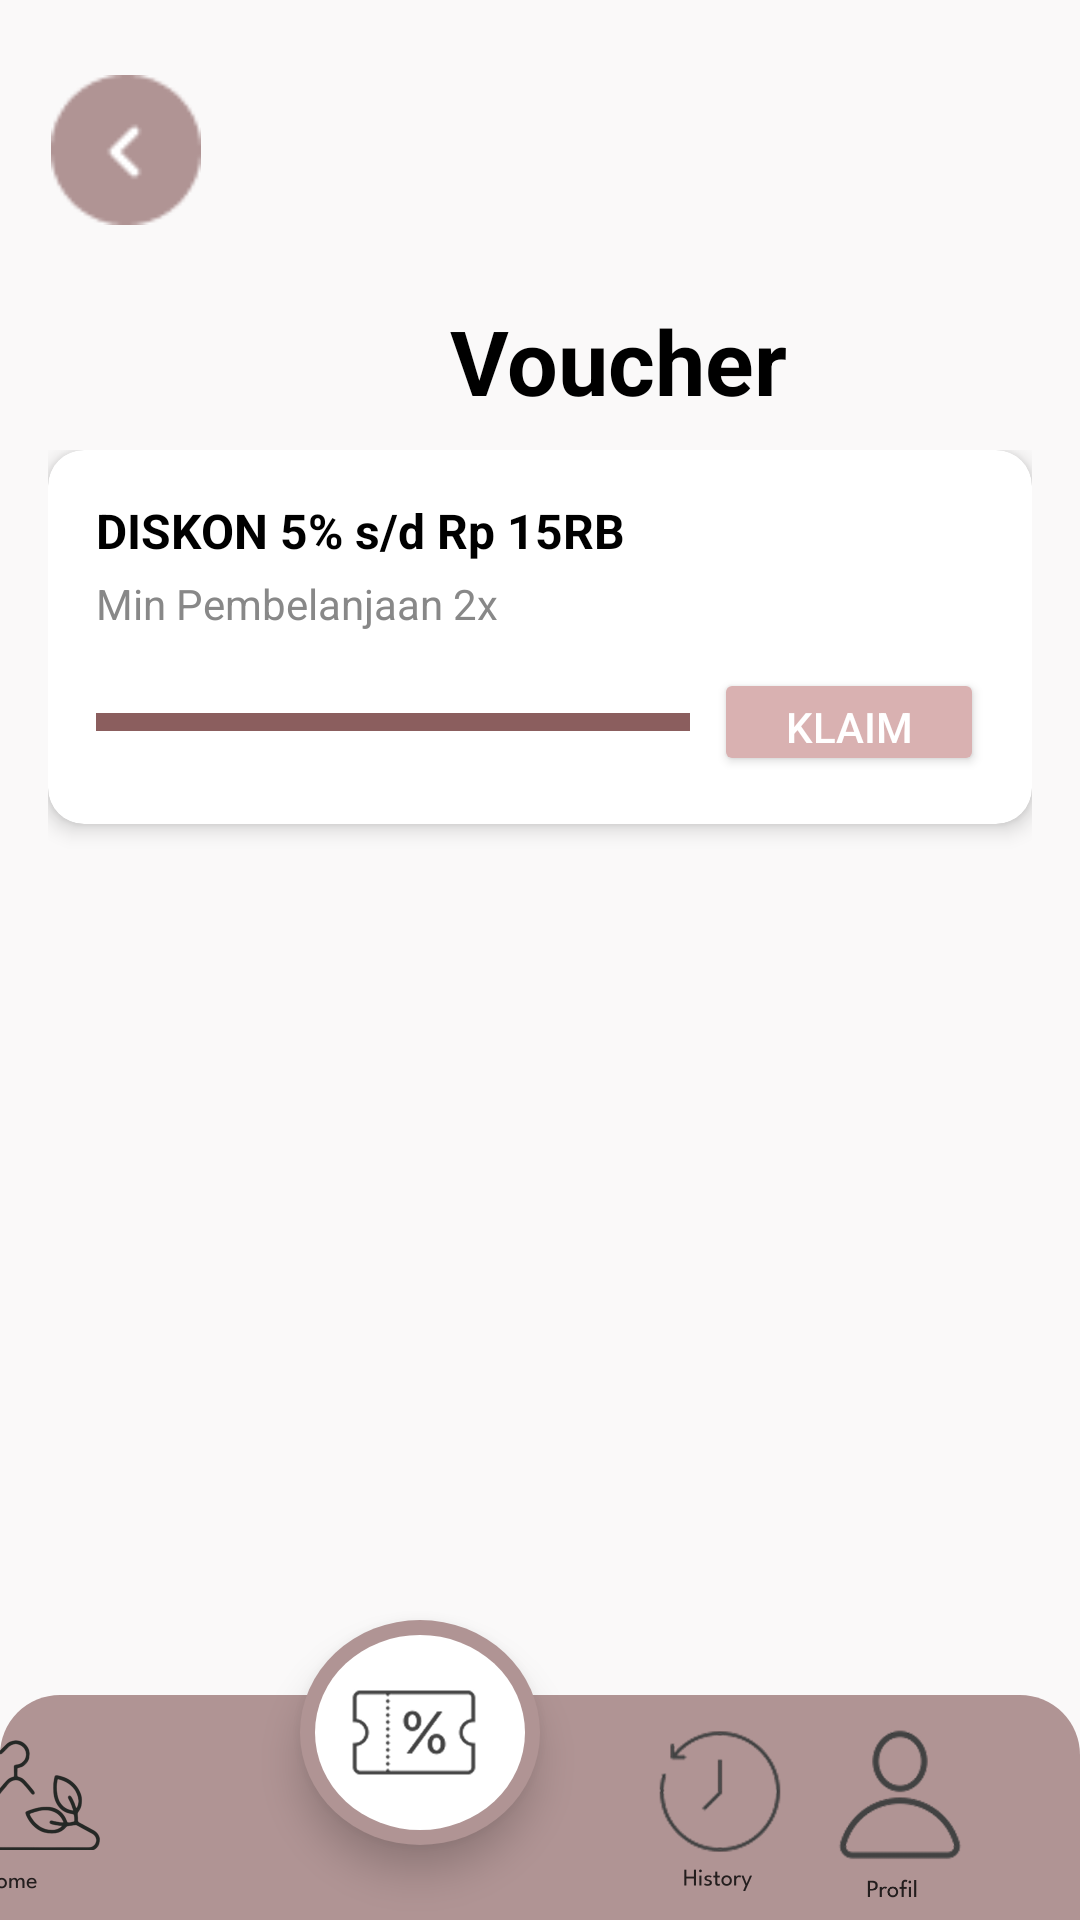

Screen size 1080 × 1920. Icon name, then its center in pixels as [x,y]:
back home: [126,150]
vouchernew: [414,1732]
